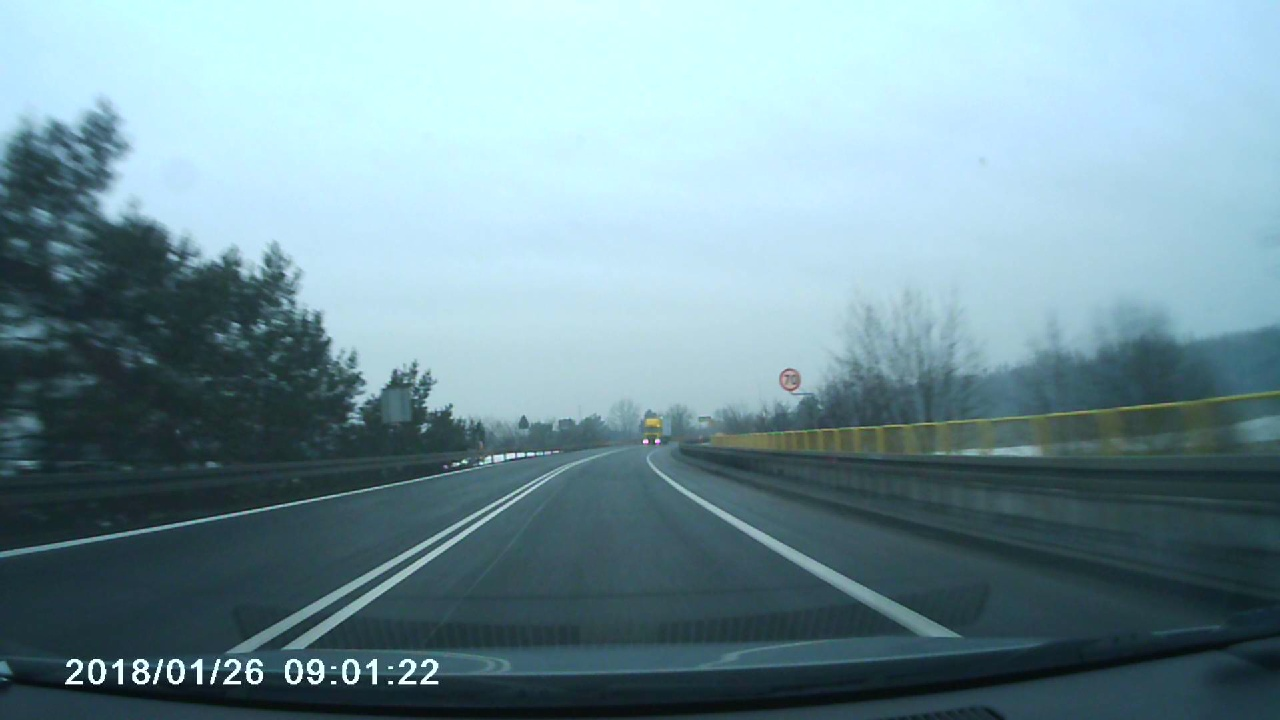B33_70: (775, 365, 809, 391)
